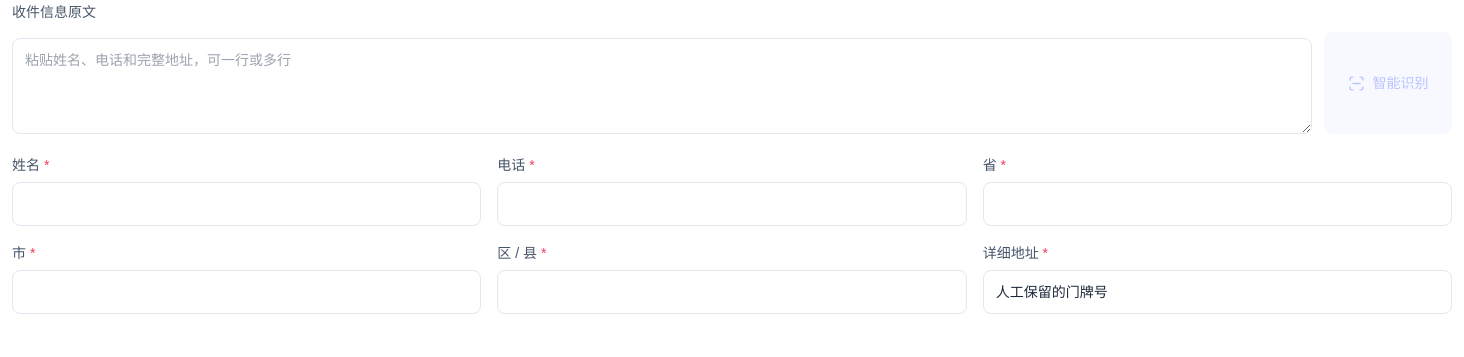
Test case: RecipientRecognitionCard › recognizes inline and fills the fields in the same card
The width and height of the screenshot is (1464, 357).
Type "林女士 13800006028 浙江省杭州市余杭区 示例路18号2栋101室" into the text box with test id "recipient-raw". click: (662, 86)
box: [12,38,1312,134]
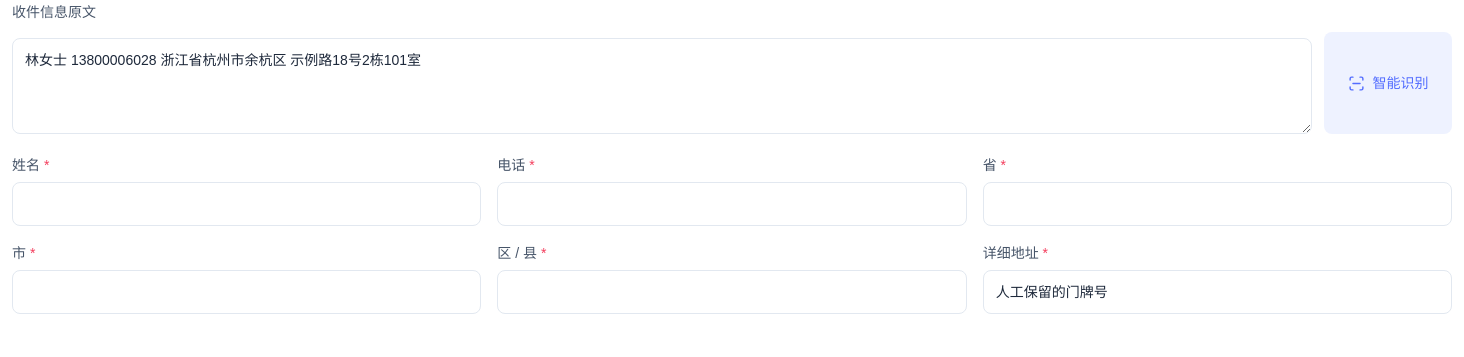
Click the button with test id "recipient-recognize". click: (1388, 83)
box: [1324,32,1452,134]
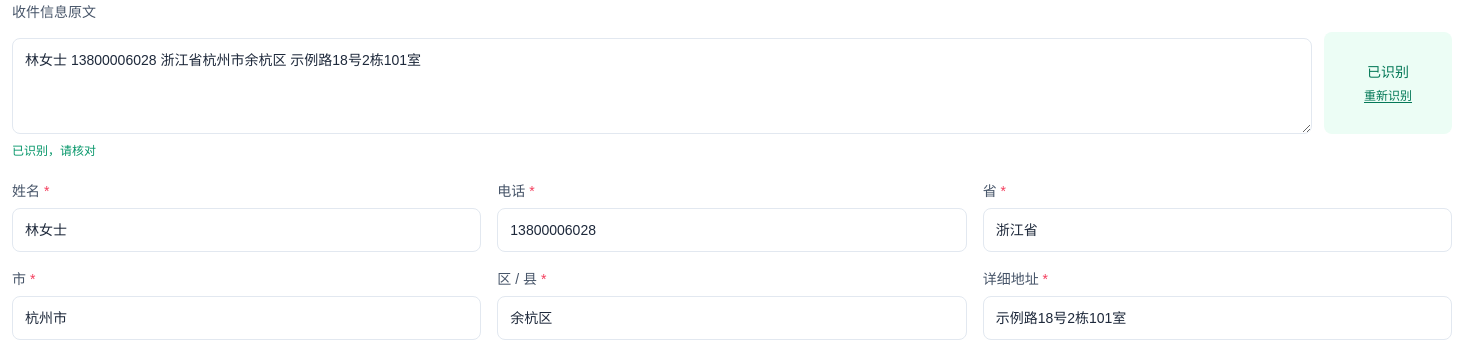
Now the field with test id "recipient-county" holds "余杭区", box [497,296,967,340]
Now the field with test id "recipient-detail-address" holds "示例路18号2栋101室", box [983,296,1452,340]
Now the text "已识别，请核对" is shown, box [12,144,96,158]
